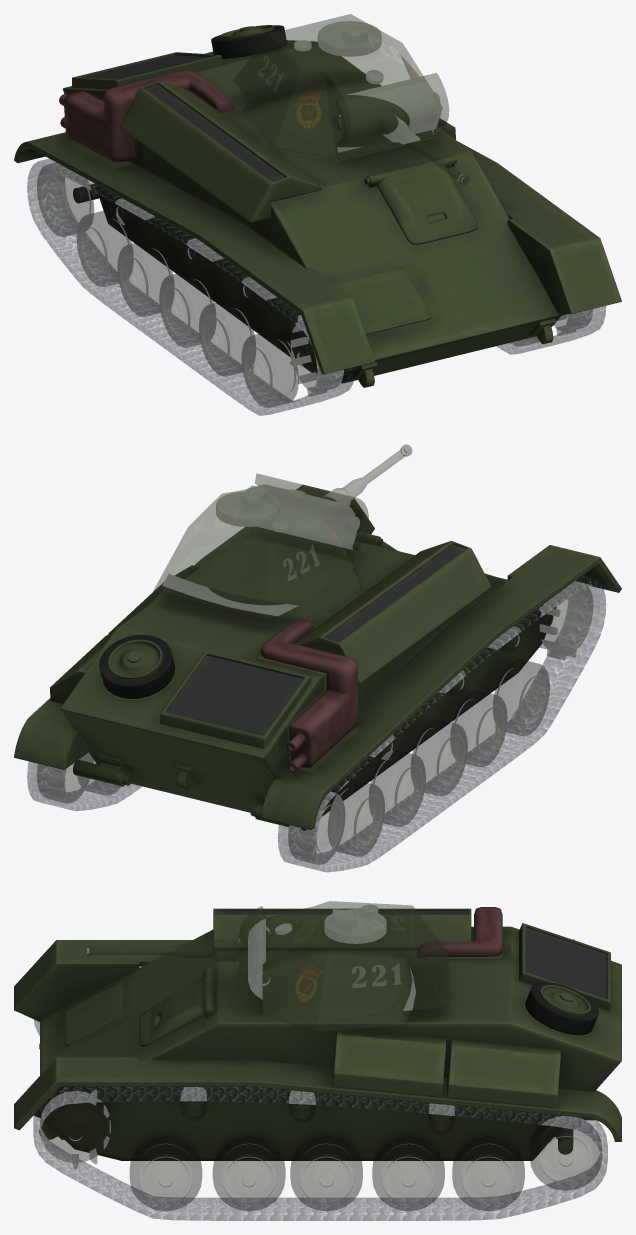
The model's file is tankv005.gltf.
3 renders of one model, top to bottom at view 1: azimuth 30°, elevation 25°; view 2: azimuth 150°, elevation 25°; view 3: azimuth 270°, elevation 25°, orthographic. The views are drawn at different scales.
Visible parts, largest first — view 1: 14078_WWII_Tank_Soviet_Union_T-70_v1_l2; view 2: 14078_WWII_Tank_Soviet_Union_T-70_v1_l2; view 3: 14078_WWII_Tank_Soviet_Union_T-70_v1_l2.
Part boxes in pixels (x1,y1,x2,y2): 14078_WWII_Tank_Soviet_Union_T-70_v1_l2: [14, 14, 621, 415]; 14078_WWII_Tank_Soviet_Union_T-70_v1_l2: [14, 444, 621, 872]; 14078_WWII_Tank_Soviet_Union_T-70_v1_l2: [14, 901, 621, 1220].
Size of the model in its own units: 2.44 by 2.12 by 4.42.
Materials: 3 (3 with a texture image).
